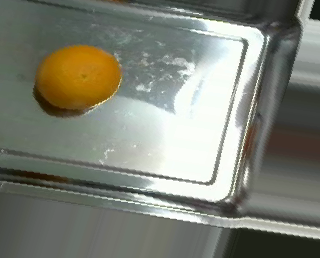Orange: (34, 44, 121, 110)
